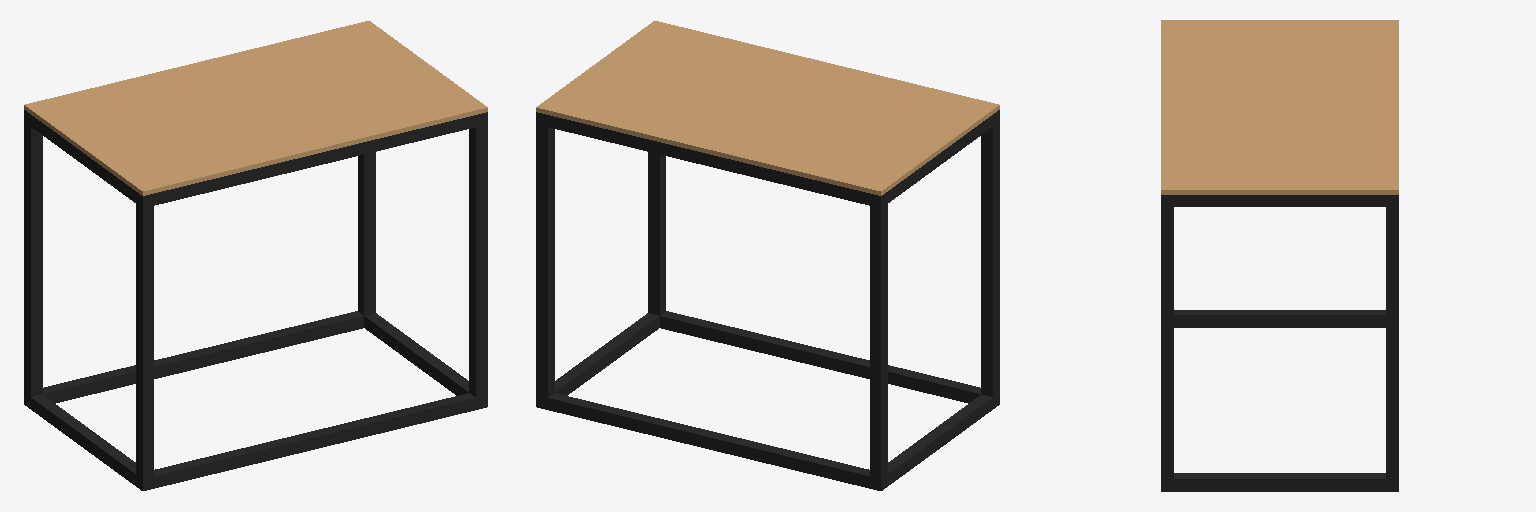
robot.urdf — panda:
<?xml version="1.0"?>
<!-- =================================================================================== -->
<!-- |    This document was autogenerated by xacro from panda_arm.urdf.xacro           | -->
<!-- |    EDITING THIS FILE BY HAND IS NOT RECOMMENDED                                 | -->
<!-- =================================================================================== -->
<robot name="panda" xmlns:controller="http://playerstage.sourceforge.net/gazebo/xmlschema/#controller">
  <link name="world"/>
  <joint name="support_to_world" type="fixed">
    <parent link="world"/>
    <child link="support"/>
    <origin rpy="0.0 0.0 0.0" xyz="0.0 0.0 0.0"/>
  </joint>
  <link name="support" type="fixed">
    <visual>
      <geometry>
        <mesh filename="package://franka_description/meshes/visual/support.stl"/>
      </geometry>
      <material name="support_color">
        <color rgba="0.19607843137254902 0.19607843137254902 0.19607843137254902 1.0"/>
      </material>
    </visual>
    <collision>
      <geometry>
        <mesh filename="package://franka_description/meshes/collision/support.stl"/>
      </geometry>
    </collision>
    <inertial>
      <origin rpy="0 0 0" xyz="0 0 0"/>
      <mass value="200"/>
      <inertia ixx="0.1" ixy="0.1" ixz="0.1" iyy="0.1" iyz="0.1" izz="0.1"/>
    </inertial>
  </link>
  <joint name="support_to_board" type="fixed">
    <parent link="support"/>
    <child link="board"/>
    <origin rpy="0.0 0.0 0.0" xyz="0.0 0.0 0.96"/>
  </joint>
  <link name="board" type="fixed">
    <visual>
      <geometry>
        <mesh filename="package://franka_description_gazebo/meshes/visual/board.stl"/>
      </geometry>
      <material name="table_color">
        <color rgba="0.8235294117647058 0.6666666666666666 0.47058823529411764 1.0"/>
      </material>
    </visual>
    <collision>
      <geometry>
        <mesh filename="package://franka_description_gazebo/meshes/collision/board.stl"/>
      </geometry>
    </collision>
    <inertial>
      <origin rpy="0 0 0" xyz="0 0 0"/>
      <mass value="200"/>
      <inertia ixx="0.1" ixy="0.1" ixz="0.1" iyy="0.1" iyz="0.1" izz="0.1"/>
    </inertial>
  </link>
  <joint name="robot_to_board" type="fixed">
    <parent link="board"/>
    <child link="panda_link0"/>
    <origin rpy="0.0 0.0 0.0" xyz="-0.15 0.0 0.015"/>
    <dynamics damping="1.0"/>
  </joint>
  <link name="panda_link0">
    <visual>
      <geometry>
        <mesh filename="package://franka_description_gazebo/meshes/visual/link0.dae"/>
      </geometry>
    </visual>
    <collision>
      <geometry>
        <mesh filename="package://franka_description_gazebo/meshes/collision/link0.stl"/>
      </geometry>
    </collision>
    <inertial>
      <origin rpy="0 0 0" xyz="0 0 0"/>
      <mass value="3.06"/>
      <inertia ixx="0.000015" ixy="0.0" ixz="0.0" iyy="0.000013" iyz="0.000004" izz="0.000005"/>
    </inertial>
  </link>
  <link name="panda_link1">
    <visual>
      <geometry>
        <mesh filename="package://franka_description_gazebo/meshes/visual/link1.dae"/>
      </geometry>
    </visual>
    <collision>
      <geometry>
        <mesh filename="package://franka_description_gazebo/meshes/collision/link1.stl"/>
      </geometry>
    </collision>
    <inertial>
      <origin rpy="0 0 0" xyz="3.875e-03 2.081e-03 0"/>
      <mass value="4.970684"/>
      <inertia ixx="7.0337e-01" ixy="-1.3900e-04" ixz="6.7720e-03" iyy="7.0661e-01" iyz="1.9169e-02" izz="9.1170e-03"/>
    </inertial>
  </link>
  <joint name="panda_joint1" type="revolute">
    <safety_controller k_position="100.0" k_velocity="40.0" soft_lower_limit="-2.8973" soft_upper_limit="2.8973"/>
    <origin rpy="0 0 0" xyz="0 0 0.333"/>
    <parent link="panda_link0"/>
    <child link="panda_link1"/>
    <axis xyz="0 0 1"/>
    <limit effort="87" lower="-2.7228" upper="2.7228" velocity="2.1750"/>
    <dynamics damping="1.0"/>
  </joint>
  <link name="panda_link2">
    <visual>
      <geometry>
        <mesh filename="package://franka_description_gazebo/meshes/visual/link2.dae"/>
      </geometry>
    </visual>
    <collision>
      <geometry>
        <mesh filename="package://franka_description_gazebo/meshes/collision/link2.stl"/>
      </geometry>
    </collision>
    <inertial>
      <origin rpy="0 0 0" xyz="-3.141e-03 -2.872e-02 3.495e-03"/>
      <mass value="0.646926"/>
      <inertia ixx="7.9620e-03" ixy="-3.9250e-03" ixz="1.0254e-02" iyy="2.8110e-02" iyz="7.0400e-04" izz="2.5995e-02"/>
    </inertial>
  </link>
  <joint name="panda_joint2" type="revolute">
    <safety_controller k_position="100.0" k_velocity="40.0" soft_lower_limit="-1.7628" soft_upper_limit="1.7628"/>
    <origin rpy="-1.5707963267948966 0 0" xyz="0 0 0"/>
    <parent link="panda_link1"/>
    <child link="panda_link2"/>
    <axis xyz="0 0 1"/>
    <limit effort="87" lower="-1.588267222" upper="1.588267222" velocity="2.1750"/>
    <dynamics damping="1.0"/>
  </joint>
  <link name="panda_link3">
    <visual>
      <geometry>
        <mesh filename="package://franka_description_gazebo/meshes/visual/link3.dae"/>
      </geometry>
    </visual>
    <collision>
      <geometry>
        <mesh filename="package://franka_description_gazebo/meshes/collision/link3.stl"/>
      </geometry>
    </collision>
    <inertial>
      <origin rpy="0 0 0" xyz="2.7518e-02 3.9252e-02 -6.6502e-02"/>
      <mass value="3.228604"/>
      <inertia ixx="3.7242e-02" ixy="-4.7610e-03" ixz="-1.1396e-02" iyy="3.6155e-02" iyz="-1.2805e-02" izz="1.0830e-02"/>
    </inertial>
  </link>
  <joint name="panda_joint3" type="revolute">
    <safety_controller k_position="100.0" k_velocity="40.0" soft_lower_limit="-2.8973" soft_upper_limit="2.8973"/>
    <origin rpy="1.5707963267948966 0 0" xyz="0 -0.316 0"/>
    <parent link="panda_link2"/>
    <child link="panda_link3"/>
    <axis xyz="0 0 1"/>
    <limit effort="87" lower="-2.7228" upper="2.7228" velocity="2.1750"/>
    <dynamics damping="1.0"/>
  </joint>
  <link name="panda_link4">
    <visual>
      <geometry>
        <mesh filename="package://franka_description_gazebo/meshes/visual/link4.dae"/>
      </geometry>
    </visual>
    <collision>
      <geometry>
        <mesh filename="package://franka_description_gazebo/meshes/collision/link4.stl"/>
      </geometry>
    </collision>
    <inertial>
      <origin rpy="0 0 0" xyz="-5.317e-02 1.04419e-01 2.7454e-02"/>
      <mass value="3.587895"/>
      <inertia ixx="2.5853e-02" ixy="7.7960e-03" ixz="-1.3320e-03" iyy="1.9552e-02" iyz="8.6410e-03" izz="2.8323e-02"/>
    </inertial>
  </link>
  <joint name="panda_joint4" type="revolute">
    <safety_controller k_position="100.0" k_velocity="40.0" soft_lower_limit="-3.0718" soft_upper_limit="-0.0698"/>
    <origin rpy="1.5707963267948966 0 0" xyz="0.0825 0 0"/>
    <parent link="panda_link3"/>
    <child link="panda_link4"/>
    <axis xyz="0 0 1"/>
    <limit effort="87" lower="-2.8973" upper="-0.2443" velocity="2.1750"/>
    <dynamics damping="1.0"/>
  </joint>
  <link name="panda_link5">
    <visual>
      <geometry>
        <mesh filename="package://franka_description_gazebo/meshes/visual/link5.dae"/>
      </geometry>
    </visual>
    <collision>
      <geometry>
        <mesh filename="package://franka_description_gazebo/meshes/collision/link5.stl"/>
      </geometry>
    </collision>
    <inertial>
      <origin rpy="0 0 0" xyz="-1.1953e-02 4.1065e-02 -3.8437e-02"/>
      <mass value="1.225946"/>
      <inertia ixx="3.5549e-02" ixy="-2.1170e-03" ixz="-4.0370e-03" iyy="2.9474e-02" iyz="2.2900e-04" izz="8.6270e-03"/>
    </inertial>
  </link>
  <joint name="panda_joint5" type="revolute">
    <safety_controller k_position="100.0" k_velocity="40.0" soft_lower_limit="-2.8973" soft_upper_limit="2.8973"/>
    <origin rpy="-1.5707963267948966 0 0" xyz="-0.0825 0.384 0"/>
    <parent link="panda_link4"/>
    <child link="panda_link5"/>
    <axis xyz="0 0 1"/>
    <limit effort="12" lower="-2.7227" upper="2.7227" velocity="2.6100"/>
    <dynamics damping="1.0"/>
  </joint>
  <link name="panda_link6">
    <visual>
      <geometry>
        <mesh filename="package://franka_description_gazebo/meshes/visual/link6.dae"/>
      </geometry>
    </visual>
    <collision>
      <geometry>
        <mesh filename="package://franka_description_gazebo/meshes/collision/link6.stl"/>
      </geometry>
    </collision>
    <inertial>
      <origin rpy="0 0 0" xyz="6.0149e-02 -1.4117e-02 -1.0517e-02"/>
      <mass value="1.666555"/>
      <inertia ixx="1.9640e-03" ixy="1.0900e-04" ixz="-1.1580e-03" iyy="4.3540e-03" iyz="3.4100e-04" izz="5.4330e-03"/>
    </inertial>
  </link>
  <joint name="panda_joint6" type="revolute">
    <safety_controller k_position="100.0" k_velocity="40.0" soft_lower_limit="-0.0175" soft_upper_limit="3.7525"/>
    <origin rpy="1.5707963267948966 0 0" xyz="0 0 0"/>
    <parent link="panda_link5"/>
    <child link="panda_link6"/>
    <axis xyz="0 0 1"/>
    <limit effort="12" lower="0.157" upper="3.578" velocity="2.6100"/>
    <dynamics damping="1.0"/>
  </joint>
  <link name="panda_link7">
    <visual>
      <geometry>
        <mesh filename="package://franka_description_gazebo/meshes/visual/link7.dae"/>
      </geometry>
    </visual>
    <collision>
      <geometry>
        <mesh filename="package://franka_description_gazebo/meshes/collision/link7.stl"/>
      </geometry>
    </collision>
    <inertial>
      <origin rpy="0 0 0" xyz="1.0517e-02 -4.252e-03 6.1597e-02"/>
      <mass value="7.35522e-01"/>
      <inertia ixx="1.2516e-02" ixy="-4.2800e-04" ixz="-1.1960e-03" iyy="1.0027e-02" iyz="-7.4100e-04" izz="4.8150e-03"/>
    </inertial>
  </link>
  <joint name="panda_joint7" type="revolute">
    <safety_controller k_position="100.0" k_velocity="40.0" soft_lower_limit="-2.8973" soft_upper_limit="2.8973"/>
    <origin rpy="1.5707963267948966 0 0" xyz="0.088 0 0"/>
    <parent link="panda_link6"/>
    <child link="panda_link7"/>
    <axis xyz="0 0 1"/>
    <limit effort="12" lower="-2.7227" upper="2.7227" velocity="2.6100"/>
    <dynamics damping="1.0"/>
  </joint>
  <link name="panda_link8">
    <inertial>
      <origin rpy="0 0 0" xyz="0 0 0"/>
      <mass value="0.0001"/>
      <inertia ixx="0.000015" ixy="0.0" ixz="0.0" iyy="0.000005" iyz="-0.00004" izz="0.000012"/>
    </inertial>
  </link>
  <joint name="panda_joint8" type="fixed">
    <origin rpy="0 0 0" xyz="0 0 0.107"/>
    <parent link="panda_link7"/>
    <child link="panda_link8"/>
    <axis xyz="0 0 0"/>
  </joint>
  <!-- Link0 -->
  <gazebo reference="support">
    <material>Gazebo/DarkGrey</material>
    <mu1>0.2</mu1>
    <mu2>0.2</mu2>
  </gazebo>
  <!-- Link0 -->
  <gazebo reference="board">
    <material>Gazebo/Wood</material>
    <mu1>0.2</mu1>
    <mu2>0.2</mu2>
  </gazebo>
  <!-- Link0 -->
  <gazebo reference="wireloop">
    <material>Gazebo/Wood</material>
    <mu1>0.2</mu1>
    <mu2>0.2</mu2>
  </gazebo>
  <!-- Link0 -->
  <gazebo reference="panda_link0">
    <material>Gazebo/Grey</material>
    <mu1>0.2</mu1>
    <mu2>0.2</mu2>
  </gazebo>
  <!-- Link1 -->
  <gazebo reference="panda_link1">
    <material>Gazebo/White</material>
    <mu1>0.2</mu1>
    <mu2>0.2</mu2>
  </gazebo>
  <!-- Link2 -->
  <gazebo reference="panda_link2">
    <material>Gazebo/White</material>
    <mu1>0.2</mu1>
    <mu2>0.2</mu2>
  </gazebo>
  <!-- Link3 -->
  <gazebo reference="panda_link3">
    <material>Gazebo/White</material>
    <mu1>0.2</mu1>
    <mu2>0.2</mu2>
  </gazebo>
  <!-- Link4 -->
  <gazebo reference="panda_link4">
    <material>Gazebo/White</material>
    <mu1>0.2</mu1>
    <mu2>0.2</mu2>
  </gazebo>
  <!-- Link5 -->
  <gazebo reference="panda_link5">
    <material>Gazebo/White</material>
    <mu1>0.2</mu1>
    <mu2>0.2</mu2>
  </gazebo>
  <!-- Link6 -->
  <gazebo reference="panda_link6">
    <material>Gazebo/White</material>
    <mu1>0.2</mu1>
    <mu2>0.2</mu2>
  </gazebo>
  <!-- Link7 -->
  <gazebo reference="panda_link7">
    <material>Gazebo/Grey</material>
    <mu1>0.2</mu1>
    <mu2>0.2</mu2>
  </gazebo>
  <transmission name="panda_tran_1">
    <type>transmission_interface/SimpleTransmission</type>
    <joint name="panda_joint1">
      <hardwareInterface>hardware_interface/EffortJointInterface</hardwareInterface>
    </joint>
    <actuator name="panda_motor_1">
      <hardwareInterface>hardware_interface/EffortJointInterface</hardwareInterface>
      <mechanicalReduction>1</mechanicalReduction>
    </actuator>
  </transmission>
  <transmission name="panda_tran_2">
    <type>transmission_interface/SimpleTransmission</type>
    <joint name="panda_joint2">
      <hardwareInterface>hardware_interface/EffortJointInterface</hardwareInterface>
    </joint>
    <actuator name="panda_motor_2">
      <hardwareInterface>hardware_interface/EffortJointInterface</hardwareInterface>
      <mechanicalReduction>1</mechanicalReduction>
    </actuator>
  </transmission>
  <transmission name="panda_tran_3">
    <type>transmission_interface/SimpleTransmission</type>
    <joint name="panda_joint3">
      <hardwareInterface>hardware_interface/EffortJointInterface</hardwareInterface>
    </joint>
    <actuator name="panda_motor_3">
      <hardwareInterface>hardware_interface/EffortJointInterface</hardwareInterface>
      <mechanicalReduction>1</mechanicalReduction>
    </actuator>
  </transmission>
  <transmission name="panda_tran_4">
    <type>transmission_interface/SimpleTransmission</type>
    <joint name="panda_joint4">
      <hardwareInterface>hardware_interface/EffortJointInterface</hardwareInterface>
    </joint>
    <actuator name="panda_motor_4">
      <hardwareInterface>hardware_interface/EffortJointInterface</hardwareInterface>
      <mechanicalReduction>1</mechanicalReduction>
    </actuator>
  </transmission>
  <transmission name="panda_tran_5">
    <type>transmission_interface/SimpleTransmission</type>
    <joint name="panda_joint5">
      <hardwareInterface>hardware_interface/EffortJointInterface</hardwareInterface>
    </joint>
    <actuator name="panda_motor_5">
      <hardwareInterface>hardware_interface/EffortJointInterface</hardwareInterface>
      <mechanicalReduction>1</mechanicalReduction>
    </actuator>
  </transmission>
  <transmission name="panda_tran_6">
    <type>transmission_interface/SimpleTransmission</type>
    <joint name="panda_joint6">
      <hardwareInterface>hardware_interface/EffortJointInterface</hardwareInterface>
    </joint>
    <actuator name="panda_motor_6">
      <hardwareInterface>hardware_interface/EffortJointInterface</hardwareInterface>
      <mechanicalReduction>1</mechanicalReduction>
    </actuator>
  </transmission>
  <transmission name="panda_tran_7">
    <type>transmission_interface/SimpleTransmission</type>
    <joint name="panda_joint7">
      <hardwareInterface>hardware_interface/EffortJointInterface</hardwareInterface>
    </joint>
    <actuator name="panda_motor_7">
      <hardwareInterface>hardware_interface/EffortJointInterface</hardwareInterface>
      <mechanicalReduction>1</mechanicalReduction>
    </actuator>
  </transmission>
  <gazebo>
    <plugin filename="lib.so" name=""/>
  </gazebo>
</robot>

--- Facts derived from the render (not from the file) ---
3 views of the same robot in one strip: view 1: azimuth 30°, elevation 25°; view 2: azimuth 150°, elevation 25°; view 3: azimuth 270°, elevation 25° (orthographic).
Robot: panda — 12 links, 11 joints (7 revolute, 4 fixed); root link world; default pose: all joints at 0 but 2 set to mid-range because 0 is outside their limits (panda_joint4 = -1.57, panda_joint6 = 1.87).
Visible links, largest first — view 1: board, support; view 2: board, support; view 3: board, support.
Link boxes in pixels (box(x1,y1,x2,y2)): board: box(24, 21, 487, 195); support: box(24, 110, 487, 490); board: box(536, 21, 999, 195); support: box(536, 110, 999, 490); board: box(1161, 20, 1398, 194); support: box(1161, 195, 1398, 491).
Size in the robot's own frame: 1.18 by 0.7 by 0.975 metres.
Meshes: 10 distinct files referenced, 2 mesh visuals loaded (2 binary STL); not drawn: 8 (reference not matched to a file when rendering).